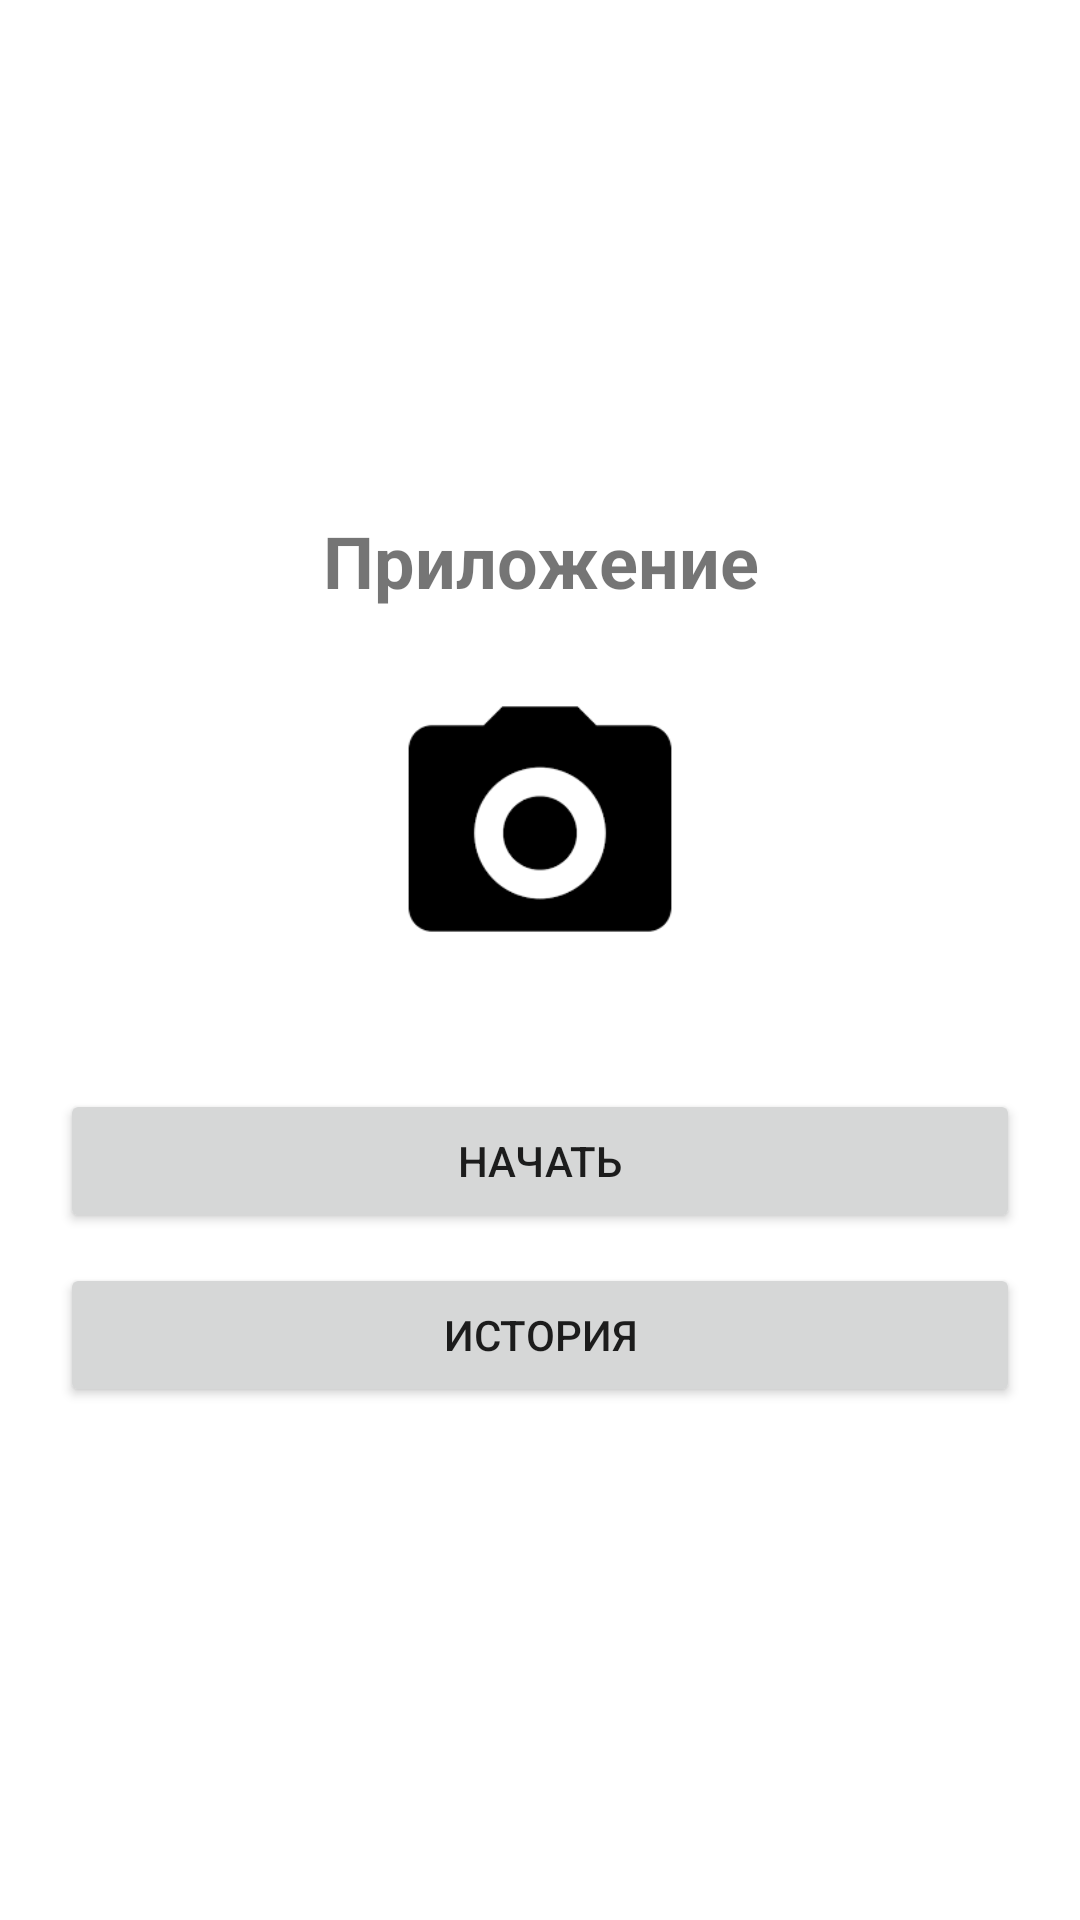

Where icons sit on this 1080w x 1920h app screen, as (x1, y1, x2, y2):
cameraa: (408, 706, 672, 932)
